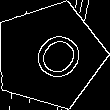O_SW: (16, 22, 83, 89)
